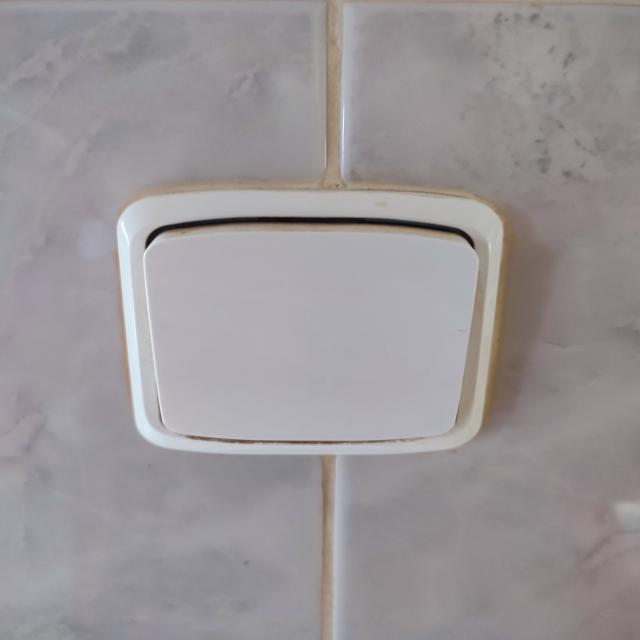house switch: (116, 186, 506, 454)
